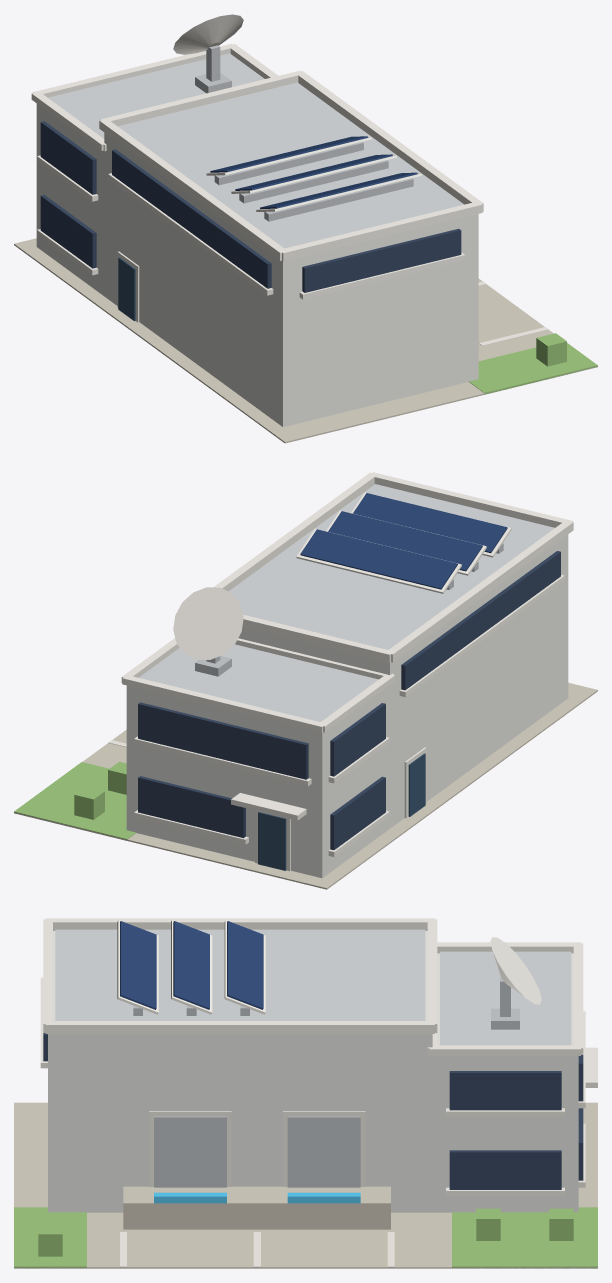
3 views of the same model, one above another, from view 1: azimuth 30°, elevation 25°; view 2: azimuth 150°, elevation 25°; view 3: azimuth 270°, elevation 25° (orthographic). The views are drawn at different scales.
Parts seen in each view (by area): view 1: hall, roof (×2), parapet (×6), window_band (×4), yard, office, panel_rail (×3), lawn, solar_panel (×3), sill (×2), satellite_dish, door (+1 smaller); view 2: roof (×2), hall, window_band (×5), office, parapet (×8), solar_panel (×3), yard, lawn, satellite_dish, sill (×3), door (×2), tree_spot (×2) (+2 smaller); view 3: hall, roof (×2), yard, parapet (×7), office, lawn (×2), garage_door (×2), dock, window_band (×2), solar_panel (×3), tree_spot (×3), garage_door_frame (×2) (+6 smaller).
Part boxes in pixels (bbox=[...]): hall: bbox=[104, 132, 478, 426]; roof (×2): bbox=[48, 53, 463, 248]; parapet (×6): bbox=[31, 43, 483, 261]; window_band (×4): bbox=[40, 121, 461, 292]; yard: bbox=[14, 238, 597, 443]; office: bbox=[36, 104, 104, 295]; panel_rail (×3): bbox=[214, 142, 413, 221]; lawn: bbox=[468, 343, 597, 394]; solar_panel (×3): bbox=[210, 136, 417, 208]; sill (×2): bbox=[108, 173, 465, 299]; satellite_dish: bbox=[173, 14, 243, 54]; door: bbox=[118, 257, 135, 321]; roof (×2): bbox=[139, 484, 554, 721]; hall: bbox=[238, 534, 568, 828]; window_band (×5): bbox=[138, 551, 560, 850]; office: bbox=[126, 685, 389, 878]; parapet (×8): bbox=[121, 472, 573, 732]; solar_panel (×3): bbox=[300, 493, 507, 589]; yard: bbox=[14, 682, 597, 889]; lawn: bbox=[14, 762, 135, 840]; satellite_dish: bbox=[173, 587, 243, 659]; sill (×3): bbox=[134, 574, 564, 844]; door (×2): bbox=[258, 753, 425, 870]; tree_spot (×2): bbox=[74, 761, 126, 819]; hall: bbox=[48, 931, 432, 1212]; roof (×2): bbox=[55, 929, 571, 1045]; yard: bbox=[14, 1102, 597, 1268]; parapet (×7): bbox=[43, 918, 583, 1055]; office: bbox=[432, 953, 578, 1212]; lawn (×2): bbox=[14, 1207, 597, 1268]; garage_door (×2): bbox=[154, 1116, 360, 1187]; dock: bbox=[123, 1186, 390, 1229]; window_band (×2): bbox=[449, 1071, 561, 1189]; solar_panel (×3): bbox=[120, 921, 263, 1009]; tree_spot (×3): bbox=[38, 1208, 573, 1256]; garage_door_frame (×2): bbox=[149, 1111, 365, 1186].
Bounding box in the file's own units: 16 × 11.11 × 24.
